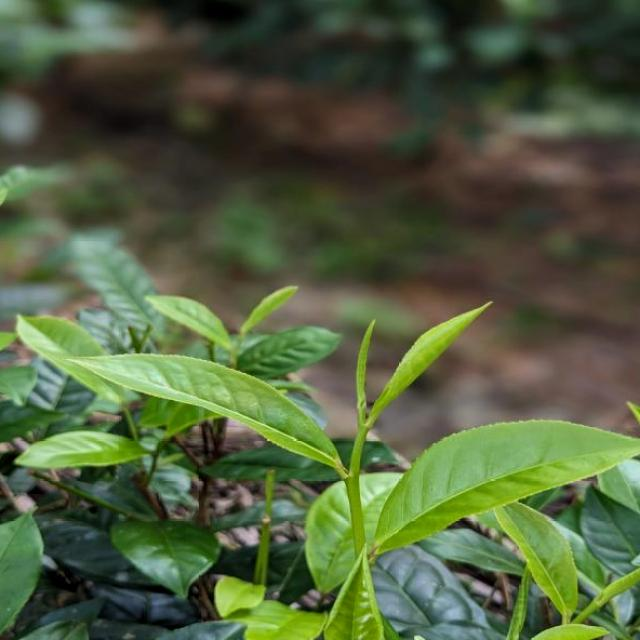Stem: (355, 427, 368, 443)
